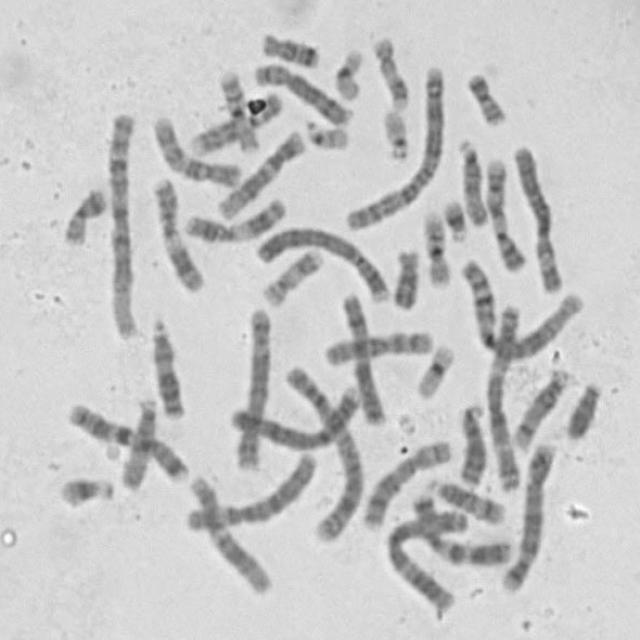A1: (457, 251, 588, 363), (102, 106, 141, 344)
A2: (340, 61, 448, 233), (279, 359, 363, 545)
A3: (382, 501, 470, 611), (482, 297, 528, 496)
B4: (253, 220, 392, 303), (224, 378, 364, 454)
B5: (496, 435, 558, 595), (232, 301, 276, 473)
C10: (148, 109, 245, 188), (319, 323, 436, 368)
C11: (149, 170, 208, 295), (180, 190, 290, 245)
C12: (184, 470, 276, 597), (214, 125, 307, 220)
C6: (182, 446, 321, 534), (508, 137, 565, 296)
C7: (62, 396, 191, 483), (407, 487, 516, 568)
C8: (358, 434, 456, 532), (248, 56, 355, 127)
C9: (184, 87, 286, 157), (479, 151, 528, 274)
D13: (146, 312, 187, 421), (454, 397, 489, 489)
D14: (508, 363, 572, 452), (422, 472, 508, 526)
D15: (116, 392, 161, 492), (452, 132, 490, 228)
E16: (215, 64, 262, 155), (418, 206, 454, 289)
E17: (258, 242, 326, 308), (368, 30, 412, 112)
E18: (256, 26, 323, 70), (387, 242, 423, 312)
F19: (411, 338, 457, 401), (329, 42, 366, 102)
F20: (59, 181, 110, 247), (461, 64, 510, 128)
G21: (54, 468, 117, 512), (438, 193, 470, 244)
G22: (378, 102, 412, 163), (300, 114, 352, 151)
X: (336, 286, 390, 428)
Y: (561, 376, 604, 440)
